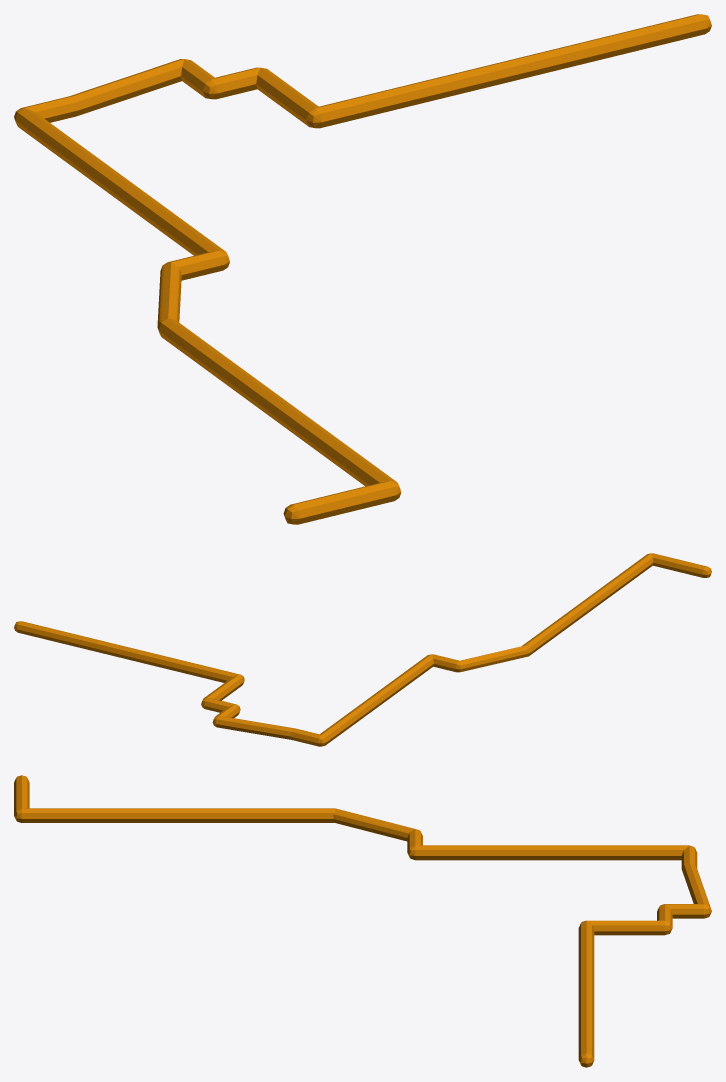
The picture shows the model from 3 angles, top to bottom: view 1: azimuth 30°, elevation 25°; view 2: azimuth 150°, elevation 25°; view 3: azimuth 270°, elevation 25°; orthographic projection. The views are drawn at different scales.
Size of the model in its own units: 858 by 20 by 891.
